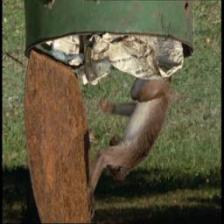monkey: (104, 135, 134, 180)
